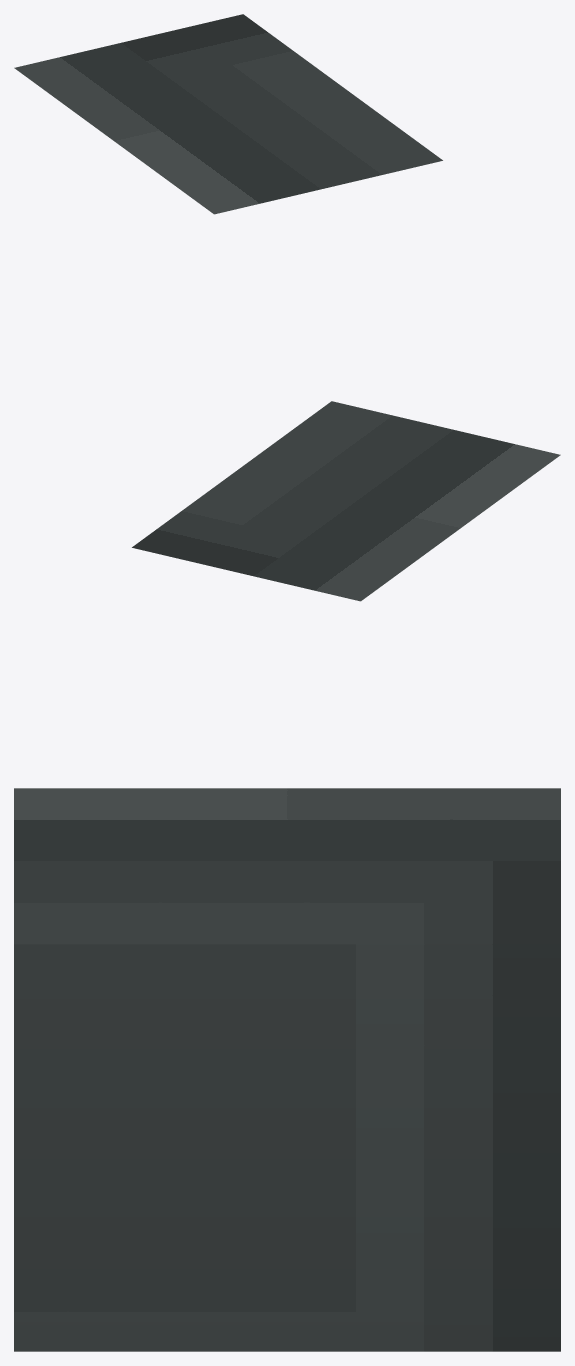
3 renders of one model, top to bottom at view 1: azimuth 30°, elevation 25°; view 2: azimuth 150°, elevation 25°; view 3: azimuth 270°, elevation 25°, orthographic. The views are drawn at different scales.
Size of the model in its own units: 0.5 by 0.3348 by 0.5.
Materials: 1 (1 with a texture image).
